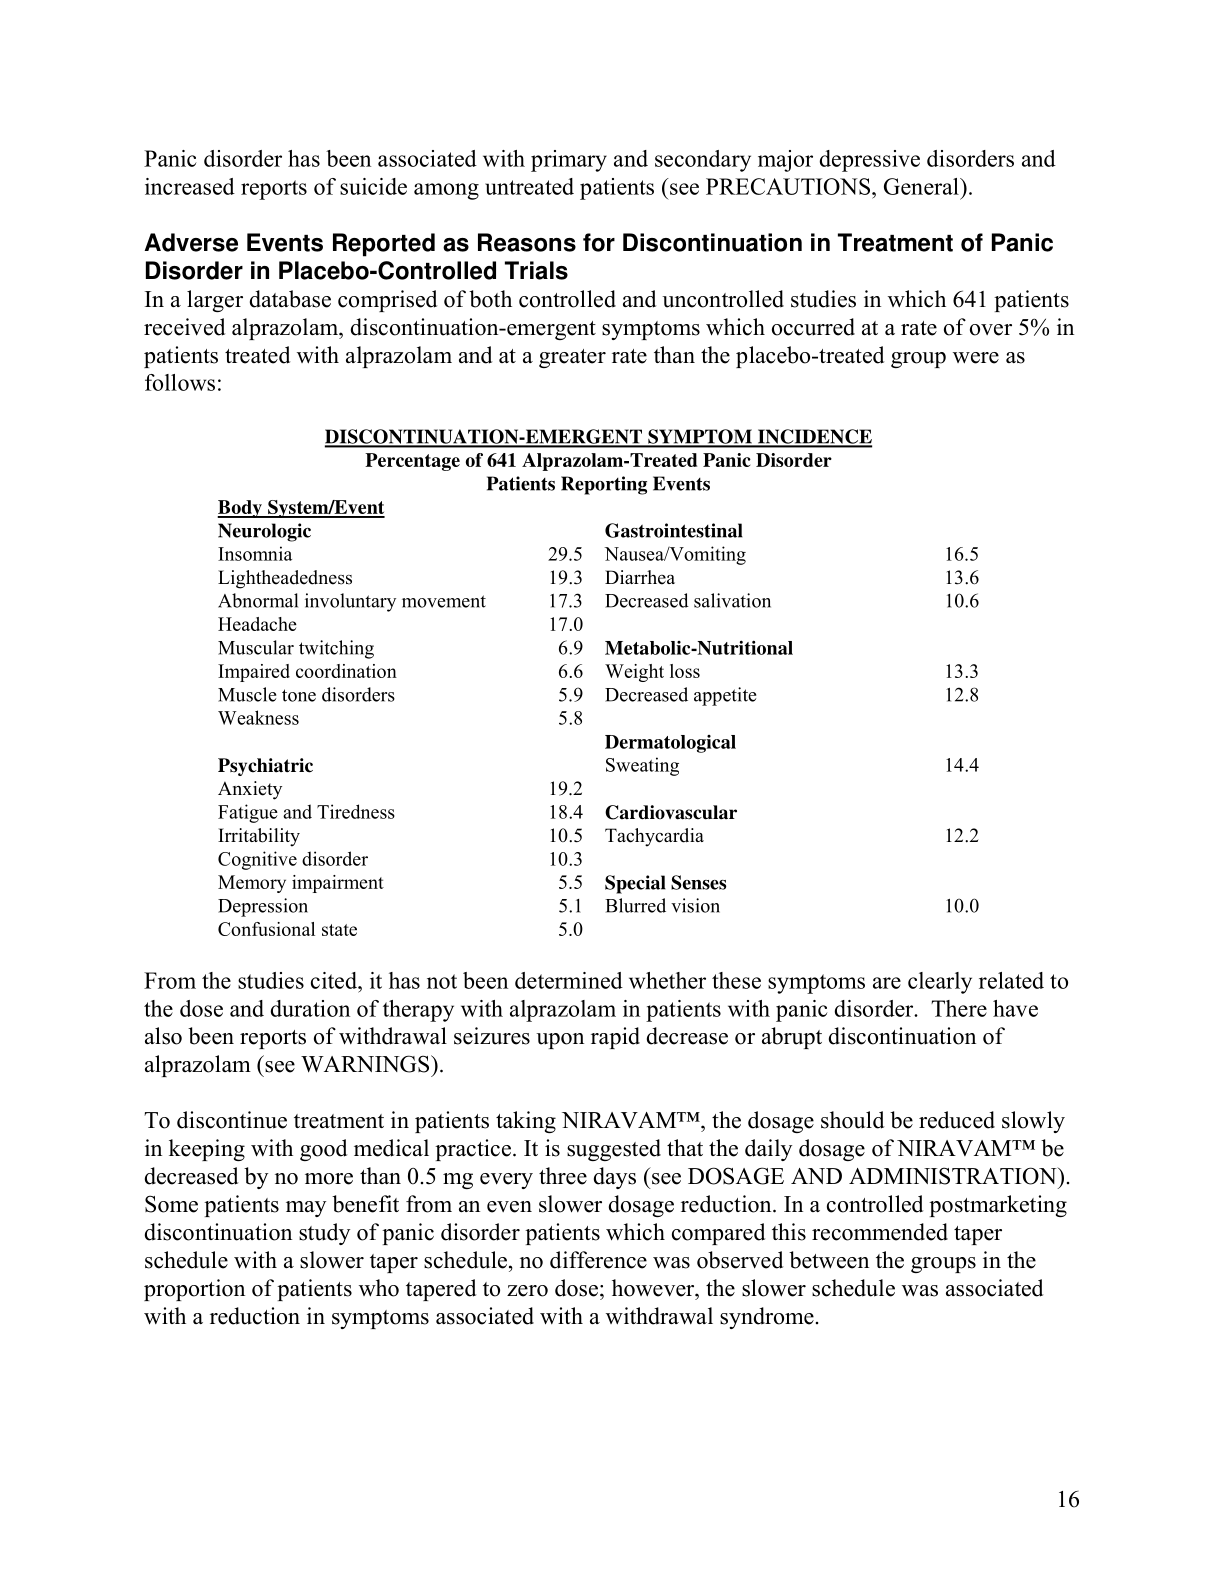nolines: (215, 495, 984, 945)
